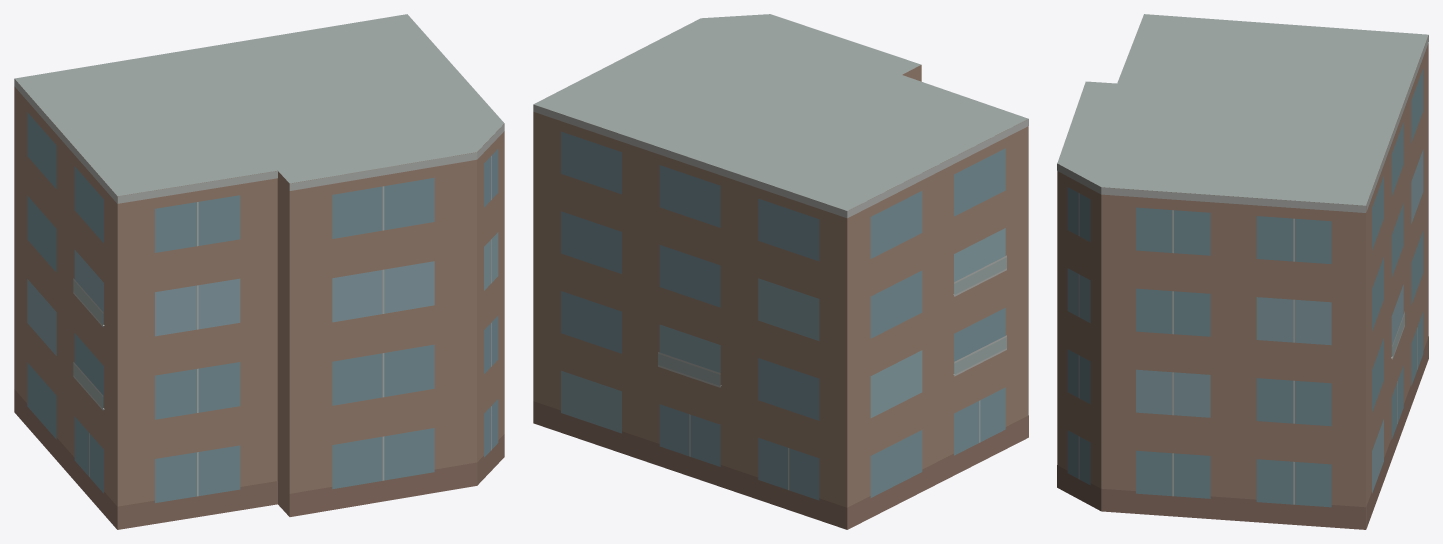
Rendered from survey-upis-32870691.glb.
3 views of the same model, side by side, from view 1: azimuth 30°, elevation 25°; view 2: azimuth 150°, elevation 25°; view 3: azimuth 270°, elevation 25° (orthographic). The views are drawn at different scales.
Parts seen in each view (by area): view 1: survey-upis-32870691.tmp; view 2: survey-upis-32870691.tmp; view 3: survey-upis-32870691.tmp.
Part boxes in pixels (x1,y1,x2,y2): survey-upis-32870691.tmp: (14,14,504,529); survey-upis-32870691.tmp: (533,14,1028,529); survey-upis-32870691.tmp: (1057,14,1428,529).
Bounding box in the file's own units: 13.58 × 10.7 × 11.12.
